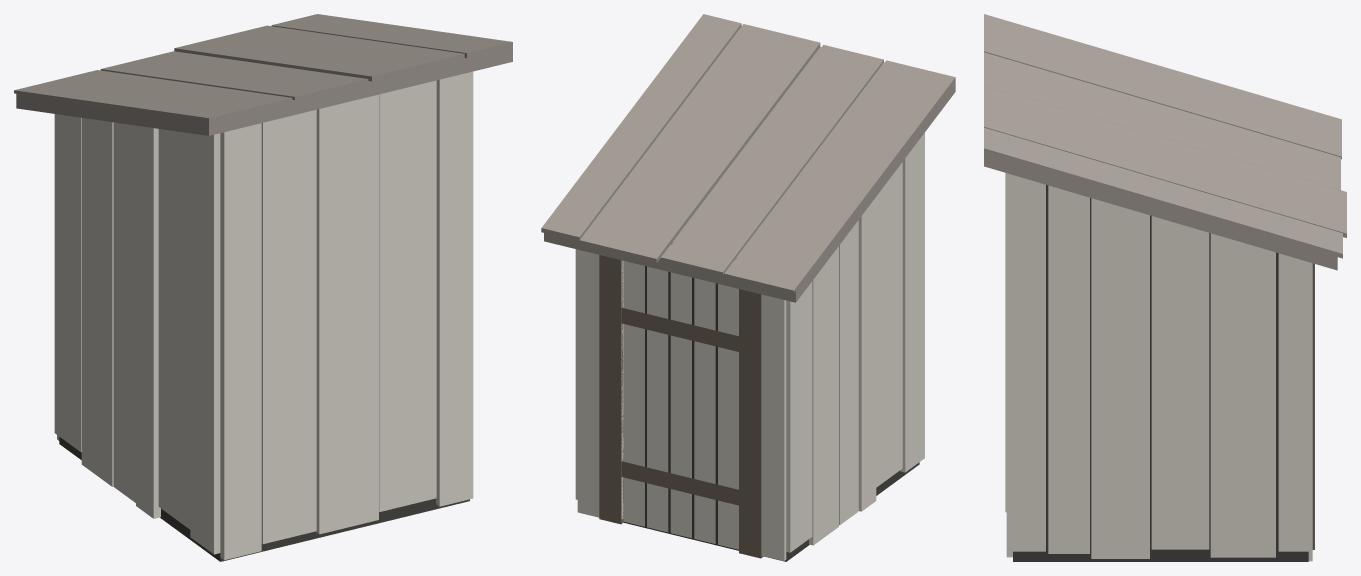
The model's file is recon_1835_south_a3_043__inferred_1835.glb.
3 renders of one model, left to right at view 1: azimuth 30°, elevation 25°; view 2: azimuth 150°, elevation 25°; view 3: azimuth 270°, elevation 25°, orthographic. The views are drawn at different scales.
Visible parts, largest first — view 1: recon_1835_south_a3_043__inferred_1835; view 2: recon_1835_south_a3_043__inferred_1835; view 3: recon_1835_south_a3_043__inferred_1835.
Boxes of the visible parts, x1,y1,x2,y2 form: recon_1835_south_a3_043__inferred_1835: (14, 14, 512, 561); recon_1835_south_a3_043__inferred_1835: (541, 14, 955, 561); recon_1835_south_a3_043__inferred_1835: (984, 14, 1346, 561).
Size of the model in its own units: 1.84 by 2.68 by 2.07.
